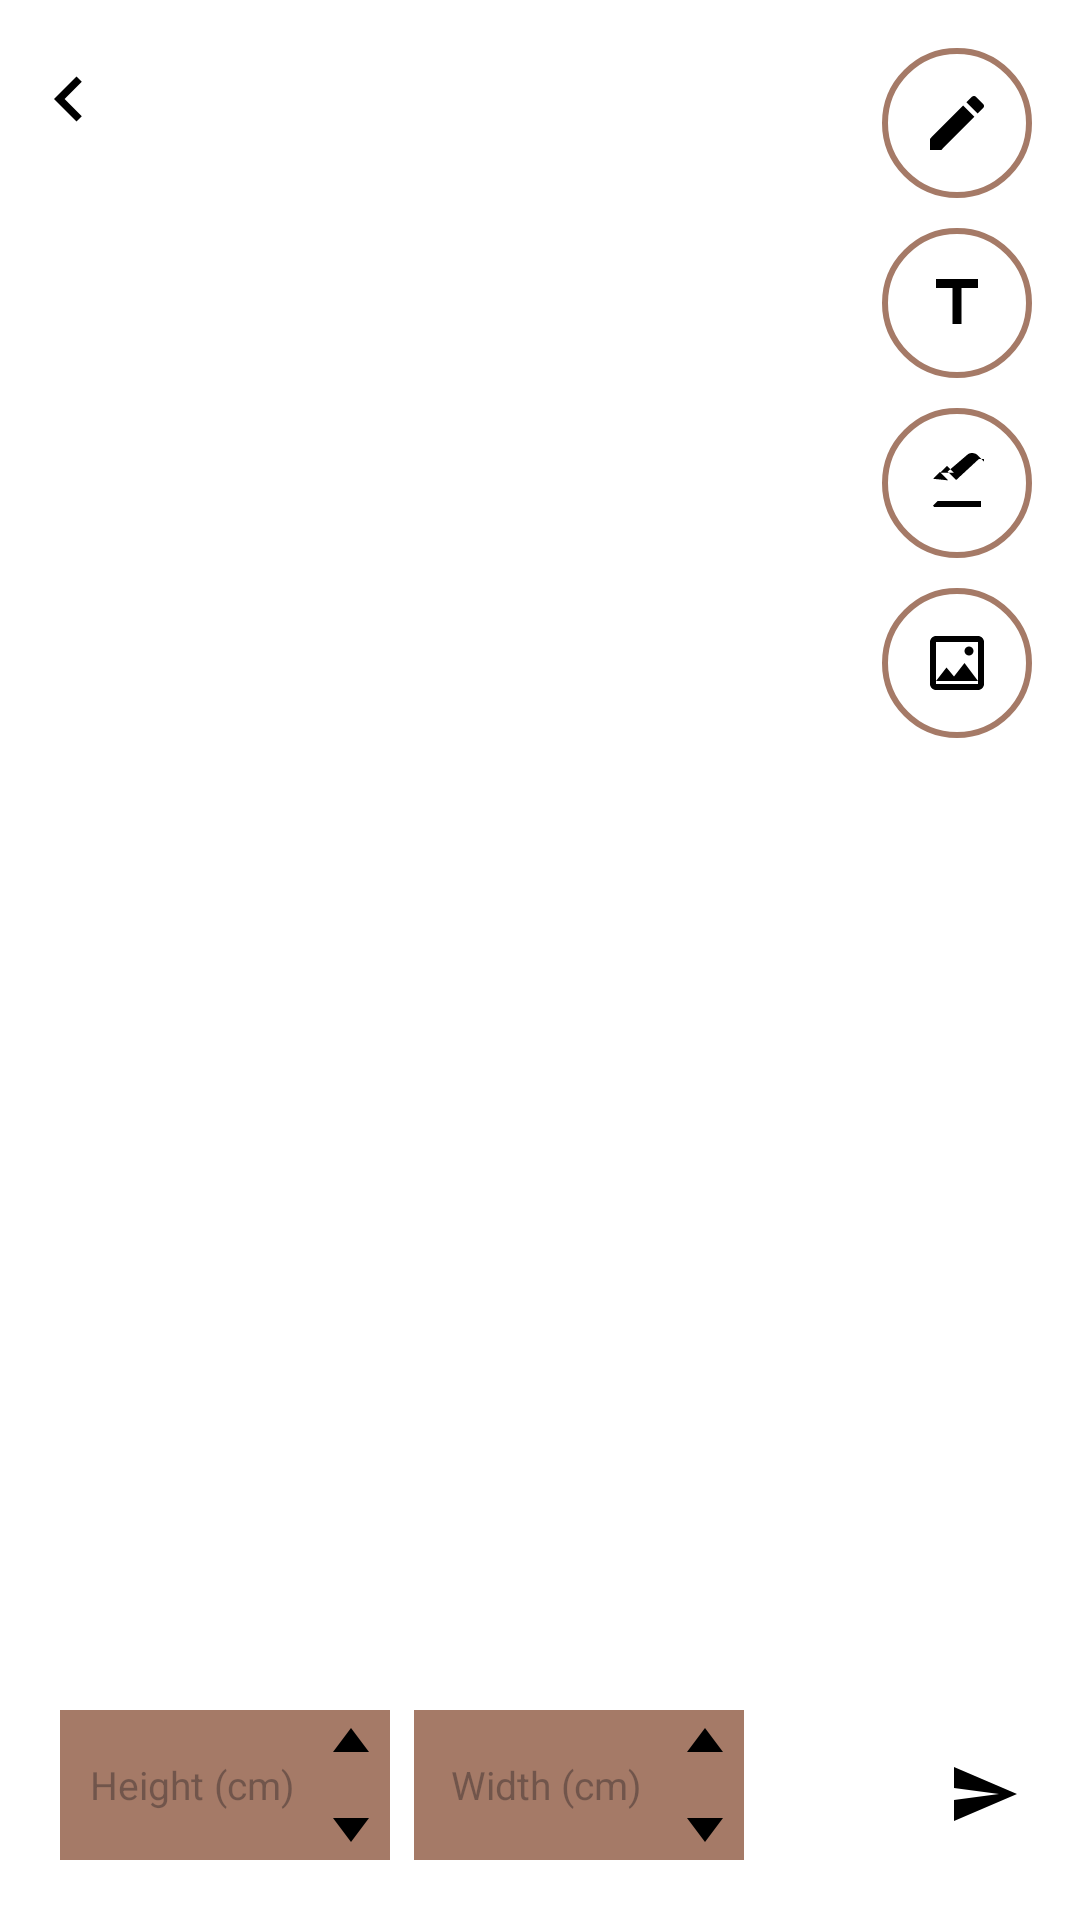

Icon bounding boxes for this 1080 x 1920 phone screenshot, format (x1, y1, x2, y2):
Add Image: (882, 588, 1032, 738)
Add Text: (882, 228, 1032, 378)
Back: (54, 76, 82, 122)
Decrease Height: (333, 1818, 369, 1842)
Draw: (882, 48, 1032, 198)
Erase: (882, 408, 1032, 558)
Increase Height: (333, 1728, 369, 1752)
Send Customize: (954, 1767, 1017, 1821)
